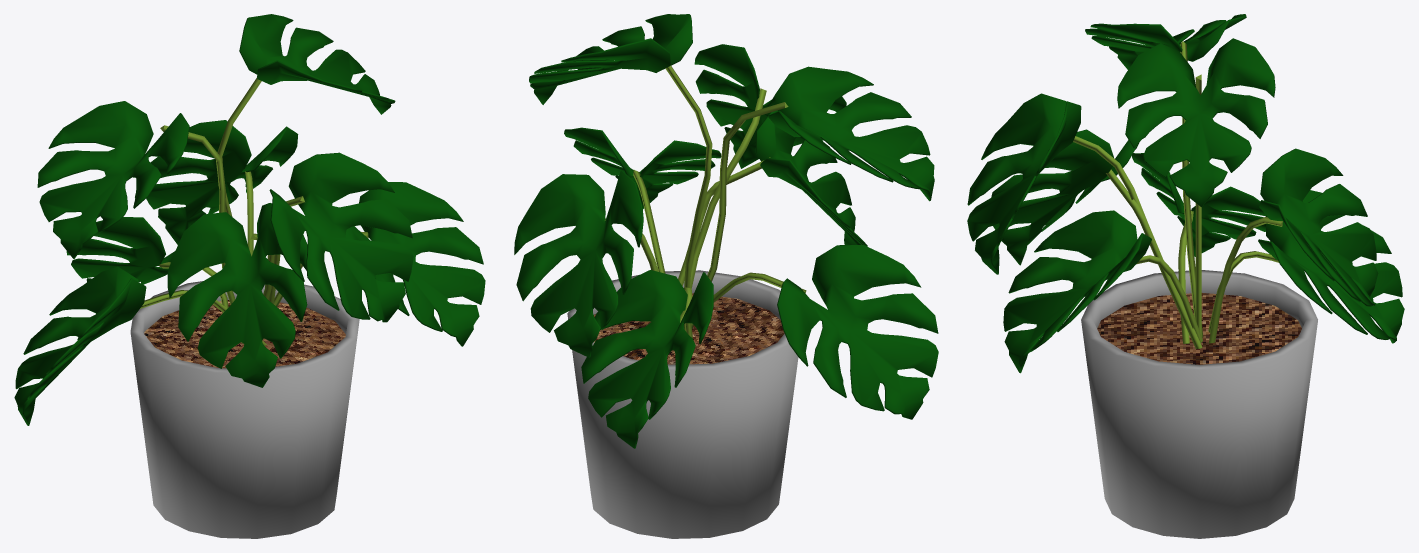
File: monstera.glb
The picture shows the model from 3 angles, left to right: view 1: azimuth 30°, elevation 25°; view 2: azimuth 150°, elevation 25°; view 3: azimuth 270°, elevation 25°; orthographic projection. The views are drawn at different scales.
Parts seen in each view (by area): view 1: Grid (×8), Cylinder, BézierCurve.001, BézierCurve; view 2: Grid (×8), Cylinder, BézierCurve, BézierCurve.001, BézierCurve.005, BézierCurve.004, BézierCurve.003, BézierCurve.002; view 3: Grid (×8), Cylinder, BézierCurve.003, BézierCurve.006, BézierCurve, BézierCurve.001, BézierCurve.005, BézierCurve.004, BézierCurve.002.
Part boxes in pixels (left/top/right/bottom): Grid (×8): left=14, top=14, right=485, bottom=425; Cylinder: left=130, top=281, right=359, bottom=538; BézierCurve.001: left=160, top=125, right=244, bottom=344; BézierCurve: left=217, top=78, right=261, bottom=343; Grid (×8): left=514, top=14, right=938, bottom=448; Cylinder: left=567, top=270, right=798, bottom=538; BézierCurve: left=665, top=65, right=712, bottom=329; BézierCurve.001: left=691, top=102, right=788, bottom=328; BézierCurve.005: left=690, top=88, right=766, bottom=288; BézierCurve.004: left=633, top=170, right=665, bottom=273; BézierCurve.003: left=678, top=157, right=770, bottom=285; BézierCurve.002: left=713, top=272, right=806, bottom=302; Grid (×8): left=967, top=14, right=1404, bottom=373; Cylinder: left=1081, top=270, right=1317, bottom=538; BézierCurve.003: left=1106, top=169, right=1202, bottom=348; BézierCurve.006: left=1208, top=217, right=1282, bottom=343; BézierCurve: left=1195, top=74, right=1201, bottom=335; BézierCurve.001: left=1180, top=41, right=1203, bottom=337; BézierCurve.005: left=1073, top=136, right=1182, bottom=302; BézierCurve.004: left=1136, top=255, right=1202, bottom=342; BézierCurve.002: left=1178, top=211, right=1193, bottom=343.
Size of the model in its own units: 0.2406 by 0.2619 by 0.2213.
Materials: 4 (1 with a texture image).
